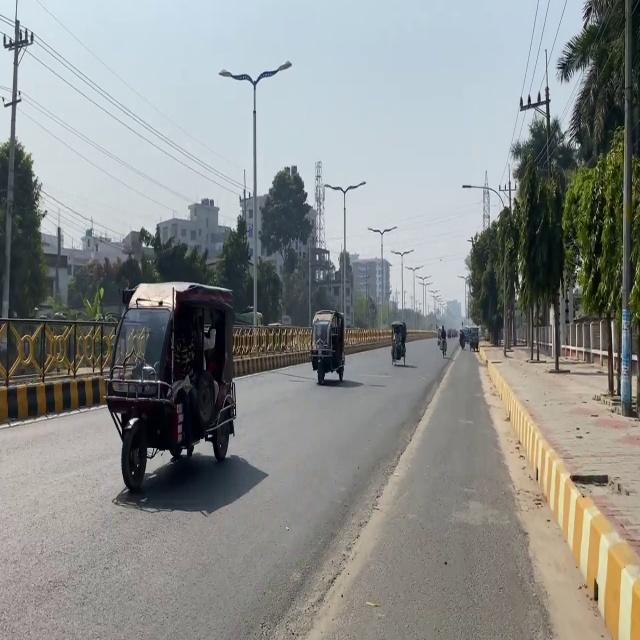Construction-barrier: (476, 343, 639, 638), (282, 416, 442, 640), (0, 372, 107, 426)
Fallen-tree: (390, 321, 407, 366), (437, 334, 448, 358)
Light-pole: (618, 0, 634, 416)
Pothole: (494, 339, 640, 640)
Traffic-cone: (103, 280, 237, 491), (309, 309, 345, 384)
